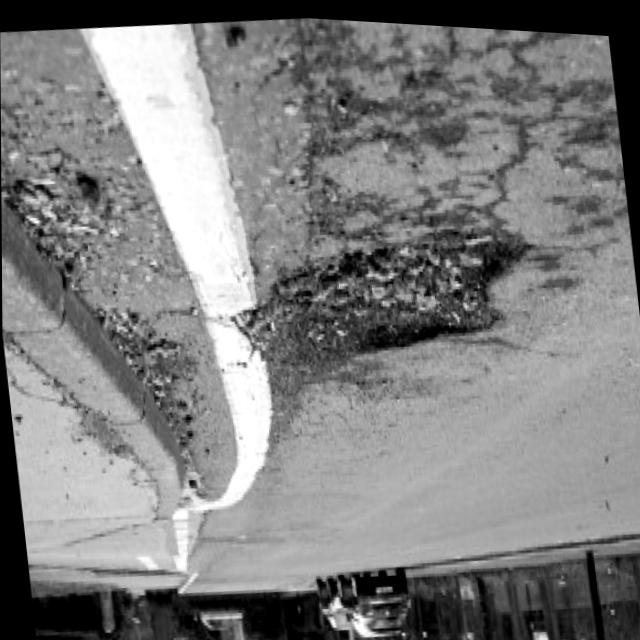pathole: (245, 159, 526, 426)
